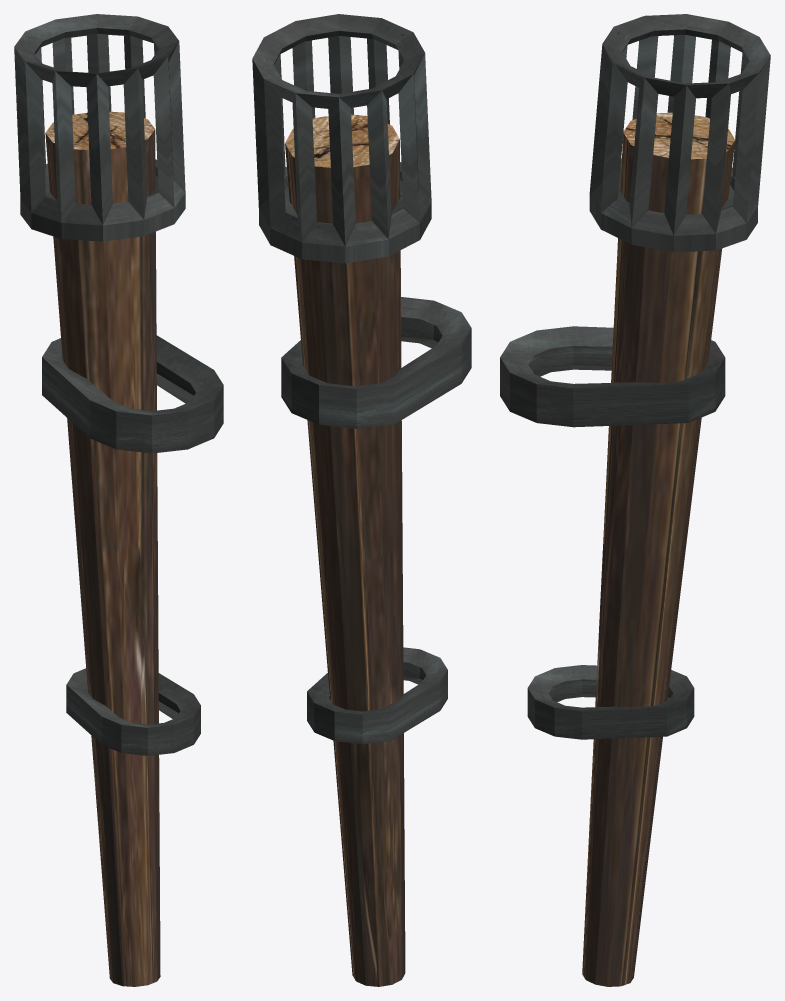
File: Torch_1.glb
3 renders of one model, left to right at view 1: azimuth 30°, elevation 25°; view 2: azimuth 150°, elevation 25°; view 3: azimuth 270°, elevation 25°, orthographic. The views are drawn at different scales.
Visible parts, largest first — view 1: Cylinder.005; view 2: Cylinder.005; view 3: Cylinder.005.
Boxes of the visible parts, x1,y1,x2,y2 form: Cylinder.005: (14,14,223,986); Cylinder.005: (252,14,471,986); Cylinder.005: (500,14,770,986).
Bounding box in the file's own units: 0.2166 × 1.32 × 0.3469.
1 material, 1 textured.
